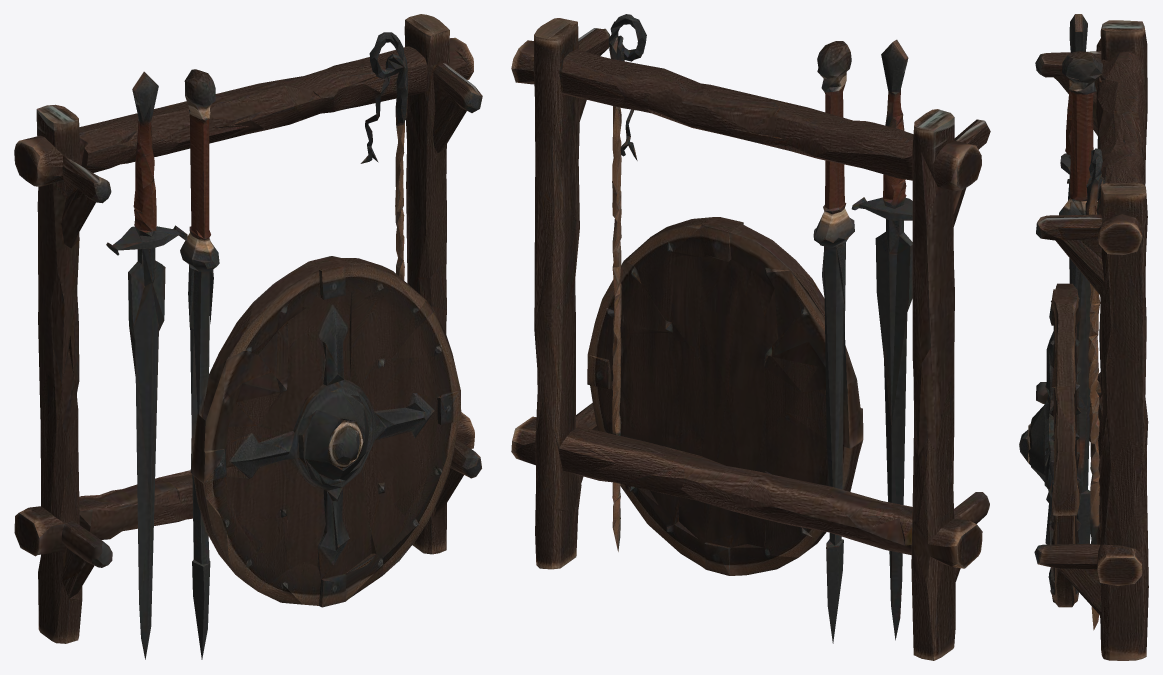
Rendered from rack.glb.
The picture shows the model from 3 angles, left to right: view 1: azimuth 30°, elevation 25°; view 2: azimuth 150°, elevation 25°; view 3: azimuth 270°, elevation 25°; orthographic projection. The views are drawn at different scales.
Visible parts, largest first — view 1: rack; view 2: rack; view 3: rack.
Boxes of the visible parts, box(x1,y1,x2,y2) form: rack: box(14, 14, 482, 659); rack: box(511, 14, 990, 660); rack: box(1019, 14, 1148, 660).
Bounding box in the file's own units: 1.33 × 1.75 × 0.3791.
Materials: 1 (1 with a texture image).
